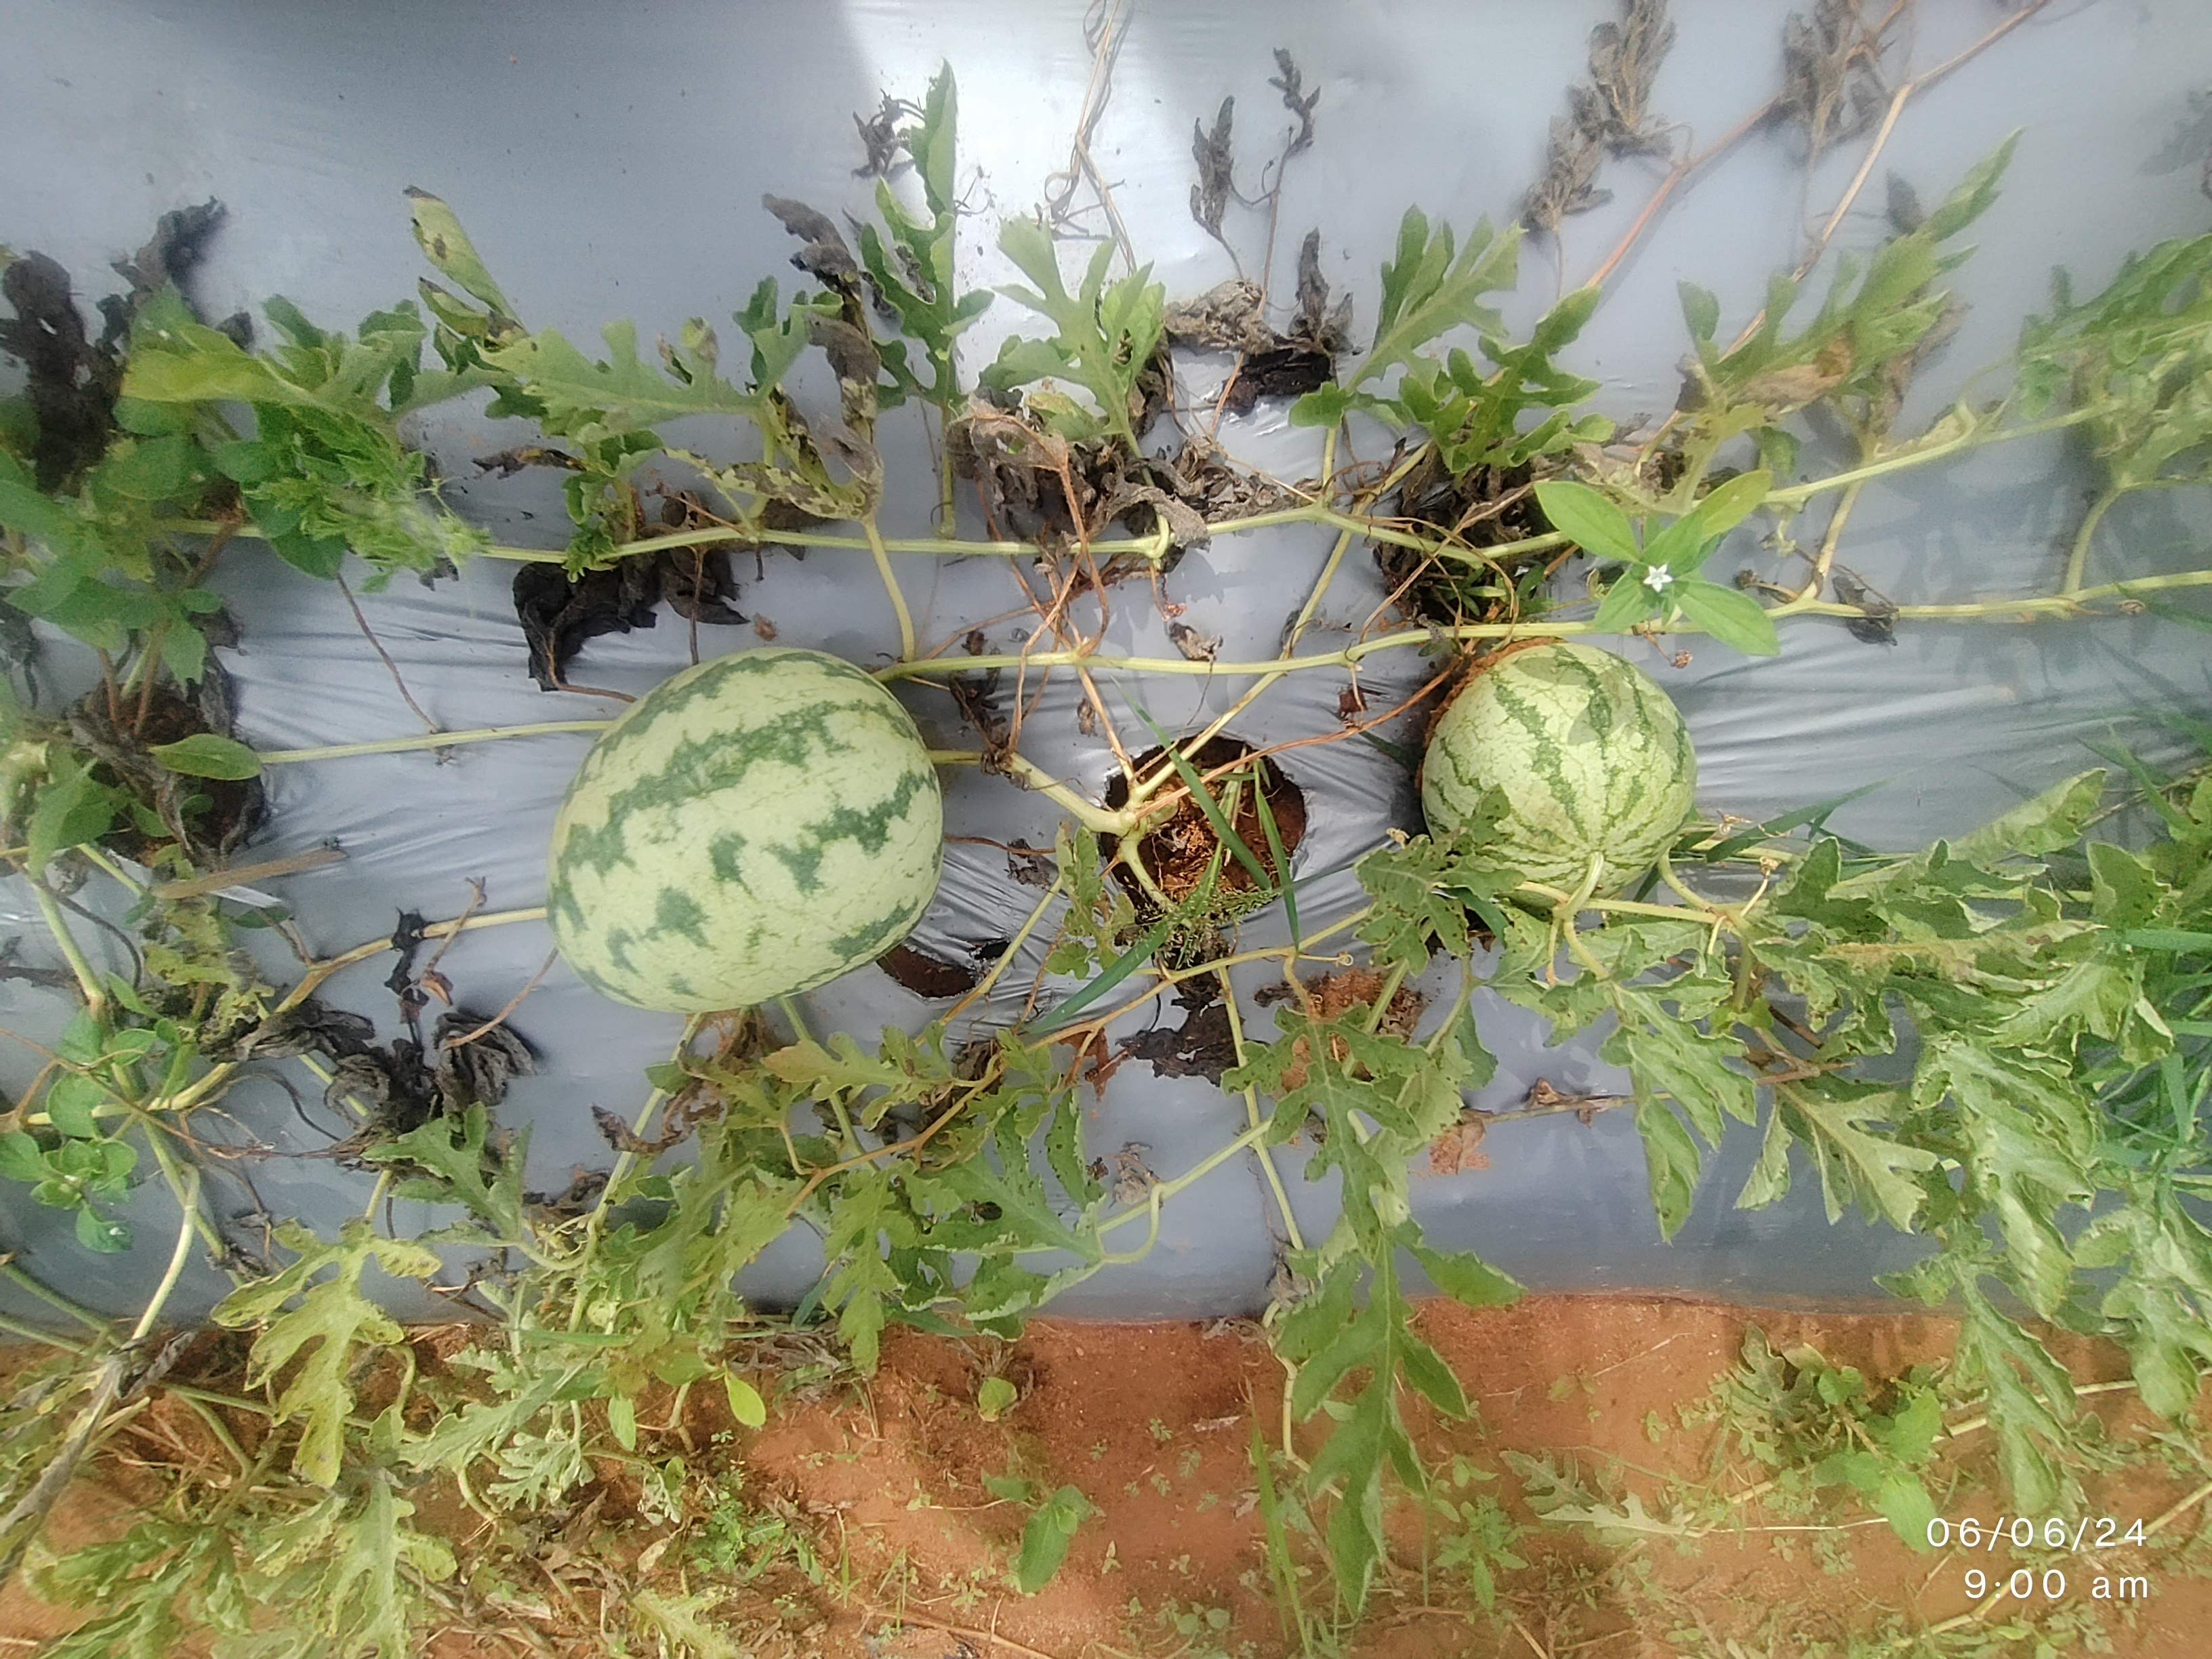not-good-to-harvest: (512, 631, 972, 1012), (1392, 556, 1724, 929)
